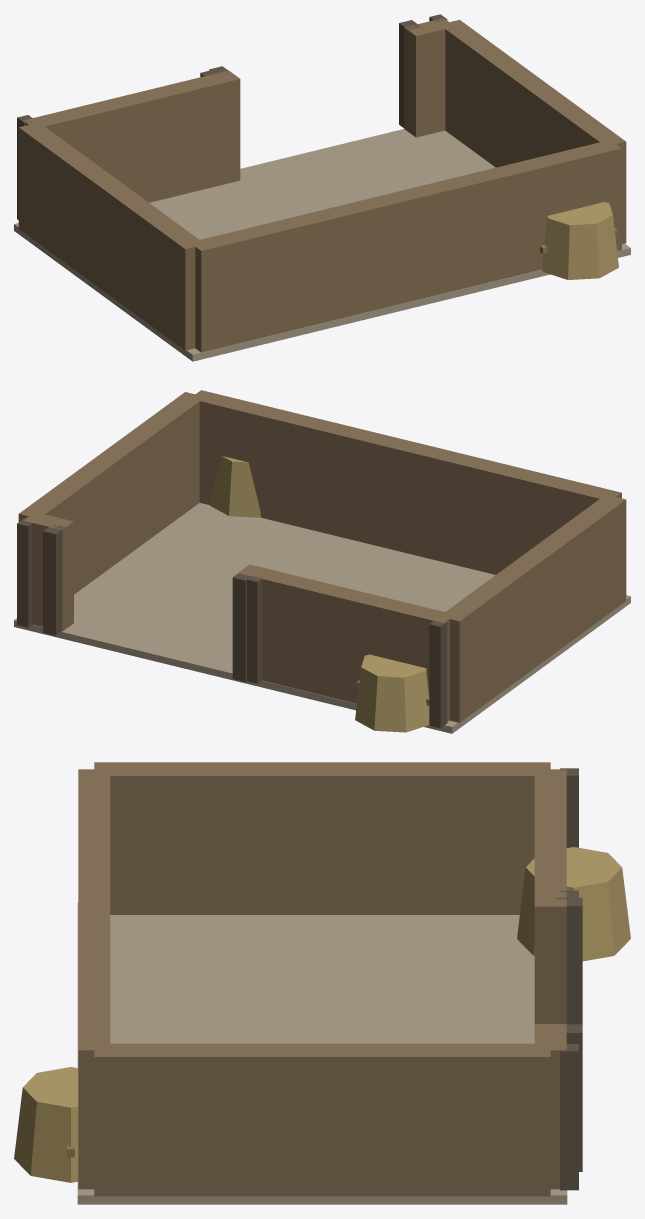
The model's file is Town_Granary.fbx.
3 views of the same model, one above another, from view 1: azimuth 30°, elevation 25°; view 2: azimuth 150°, elevation 25°; view 3: azimuth 270°, elevation 25° (orthographic). The views are drawn at different scales.
Visible parts, largest first — view 1: OpenBuildings_Town_Granary; view 2: OpenBuildings_Town_Granary; view 3: OpenBuildings_Town_Granary.
Boxes of the visible parts, left/top/right/bottom form: OpenBuildings_Town_Granary: left=14, top=14, right=630, bottom=361; OpenBuildings_Town_Granary: left=14, top=390, right=630, bottom=733; OpenBuildings_Town_Granary: left=14, top=762, right=630, bottom=1204.
Bounding box in the file's own units: 4.77 × 1.12 × 4.22.
